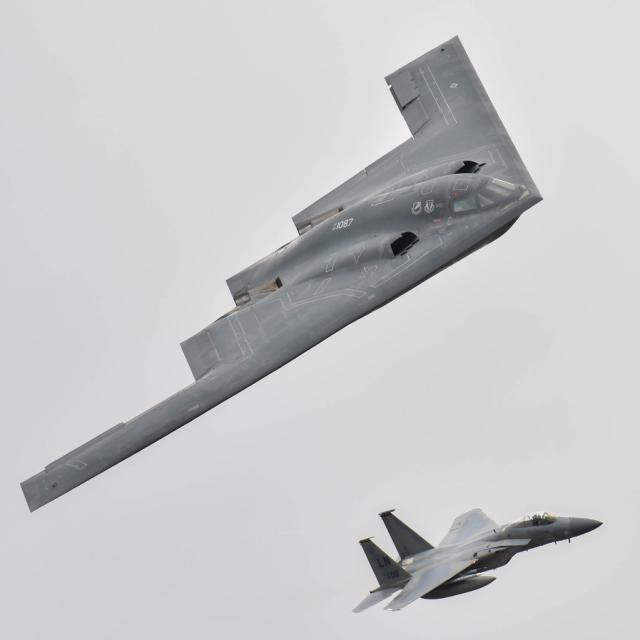MIL_Plane: (6, 35, 531, 513), (351, 507, 604, 614)
